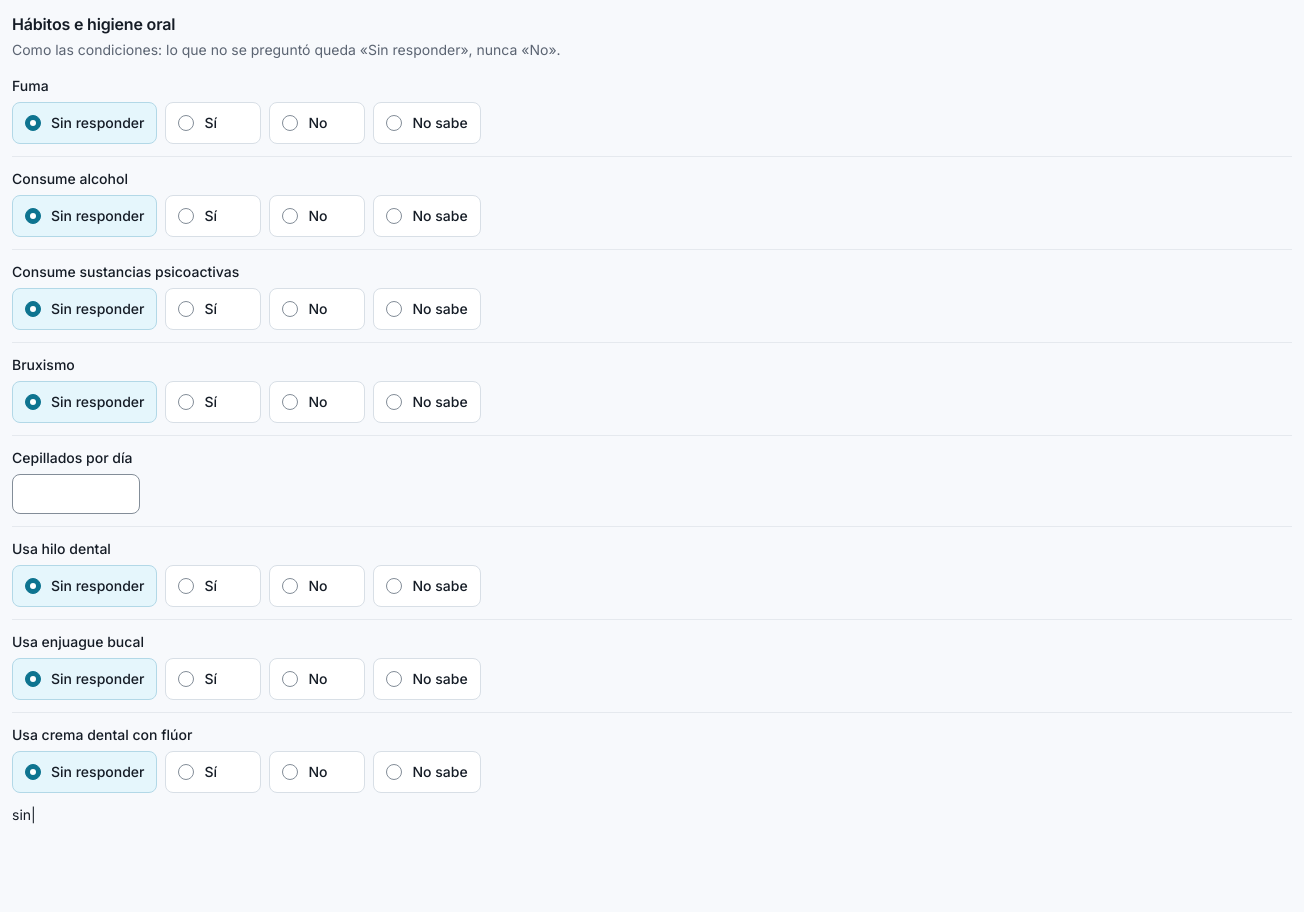
Test: marca fuma y registra cigarrillos por día
expect the text with test id "tabaquismo" reads "sin|": met, box [12,806,36,823]
Click the radio button labelled "Sí" below "Fuma" at {"x": 186, "y": 123}, box [178,115,194,131]
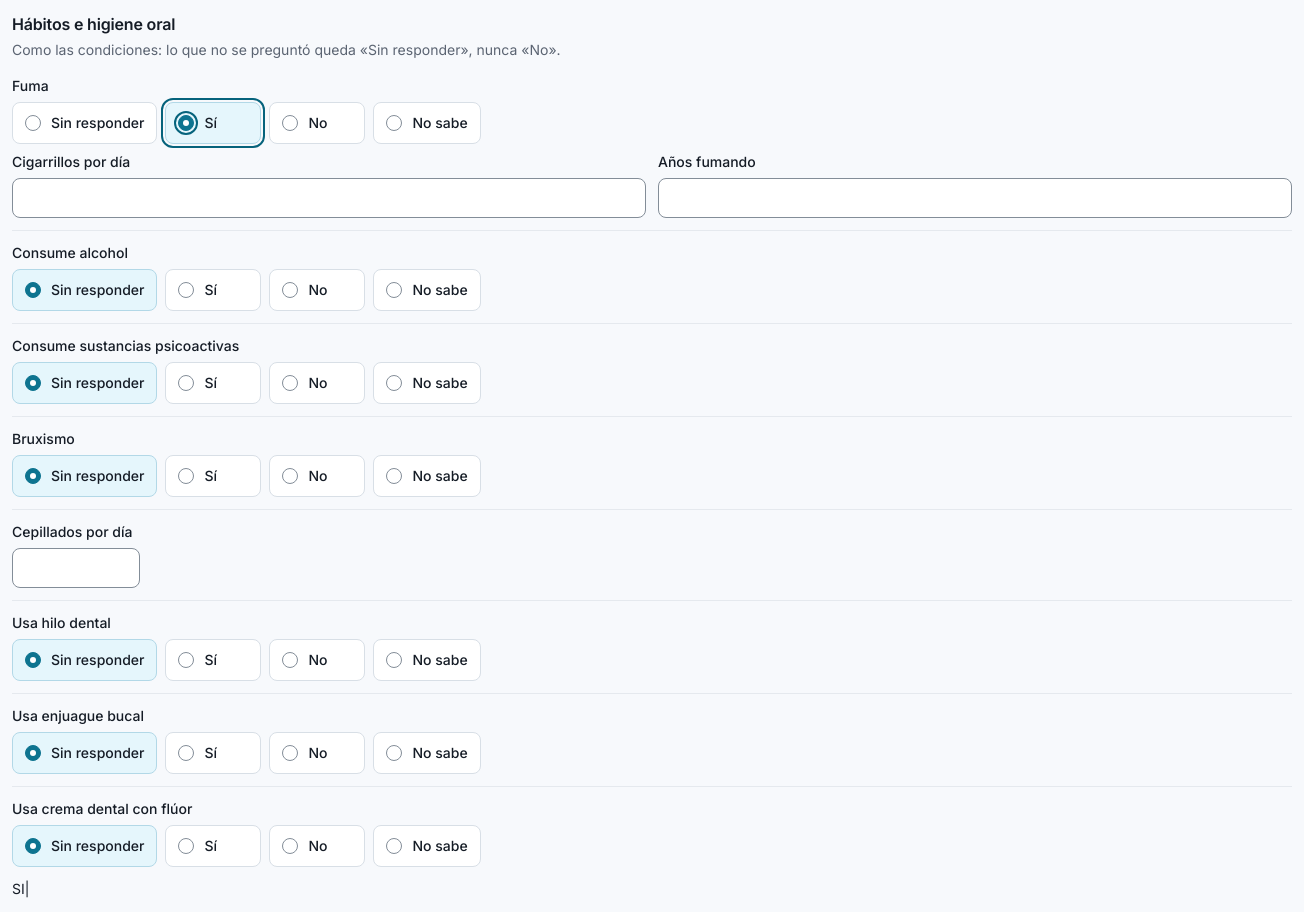
Type "10" into the number field labelled "Cigarrillos por día" at {"x": 329, "y": 198}, box [12,178,646,218]
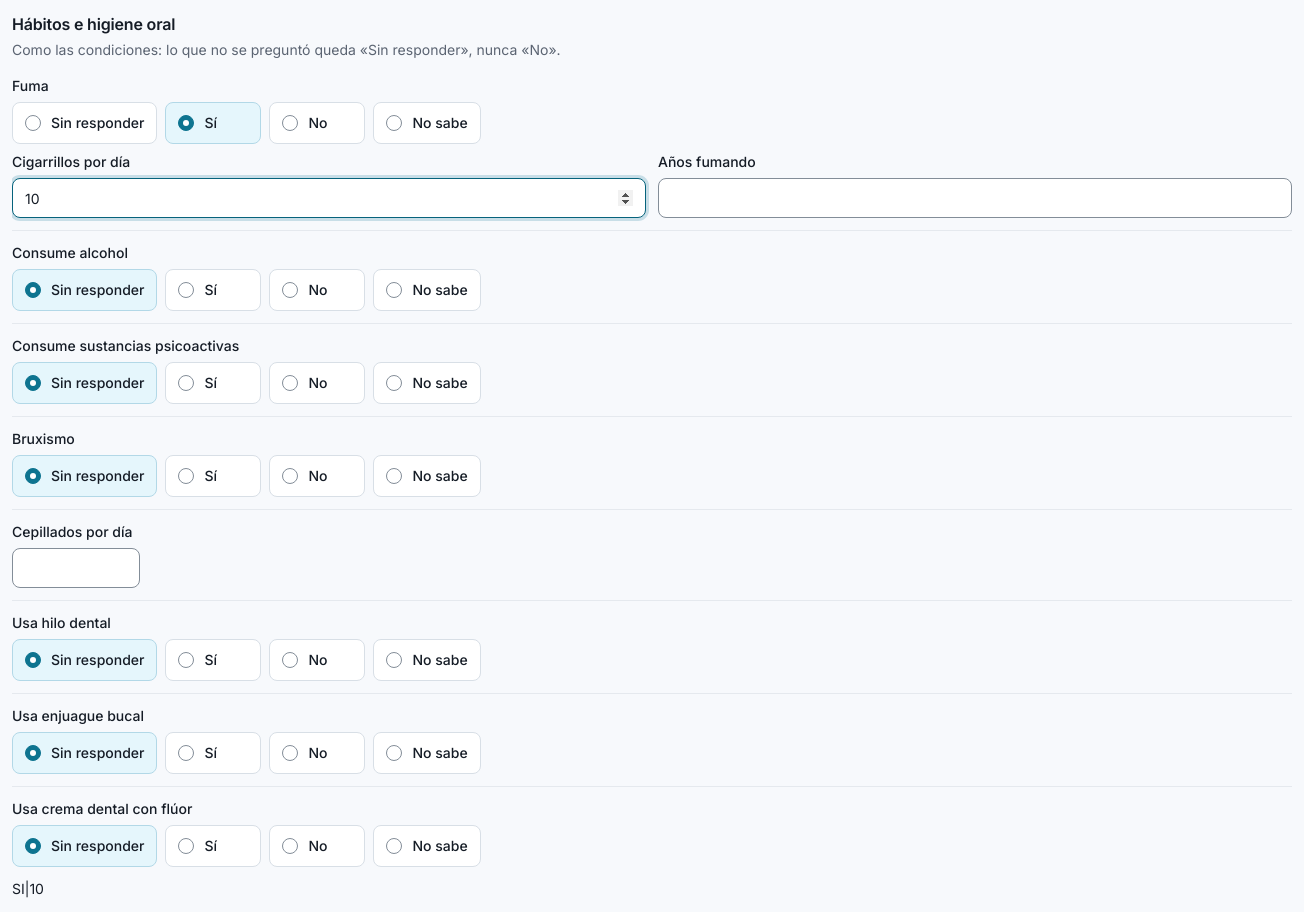
expect the text with test id "tabaquismo" reads "SI|10": met, box [12,880,44,897]
